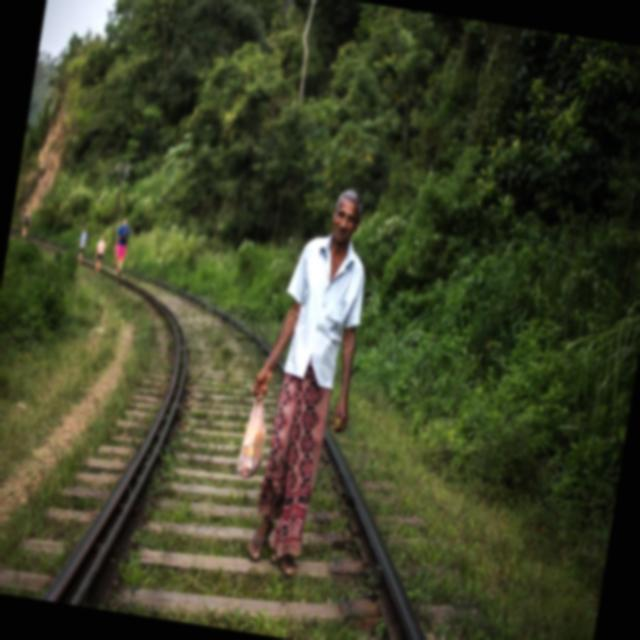danger: (224, 176, 376, 580), (108, 214, 140, 277), (75, 227, 110, 272)
rail: (15, 229, 452, 639)
